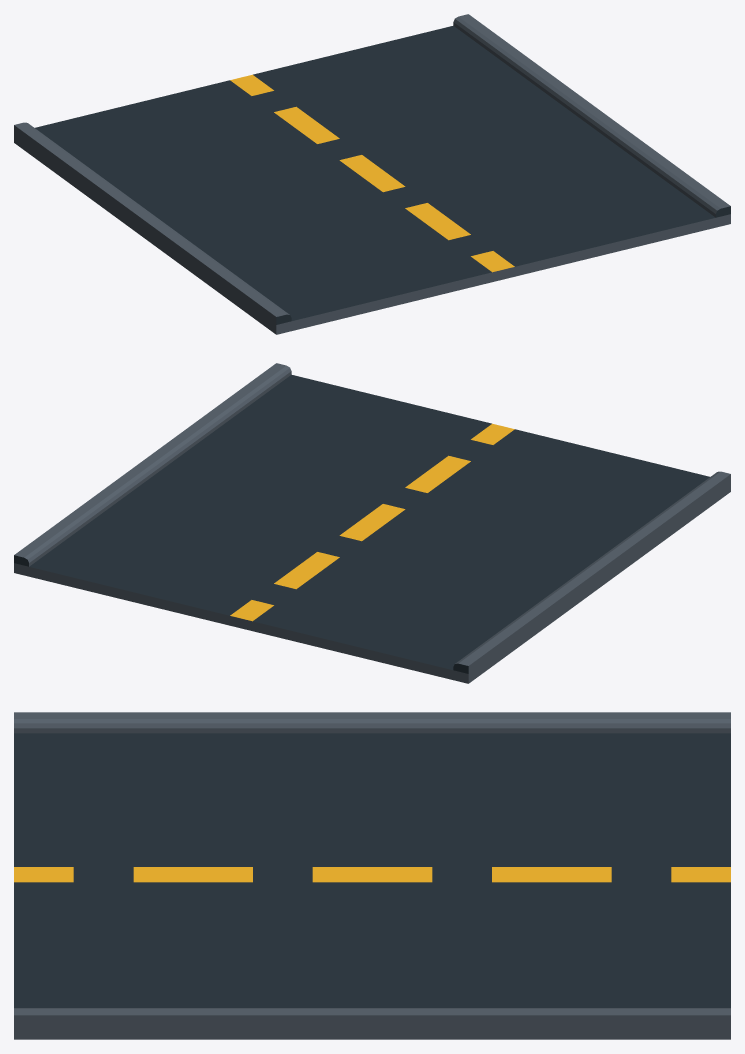
Rendered from Roads, SideWalks.fbx_Road.fbx.
3 views of the same model, one above another, from view 1: azimuth 30°, elevation 25°; view 2: azimuth 150°, elevation 25°; view 3: azimuth 270°, elevation 25° (orthographic). The views are drawn at different scales.
Parts seen in each view (by area): view 1: Road; view 2: Road; view 3: Road.
Boxes of the visible parts, x1,y1,x2,y2 form: Road: [14, 14, 730, 334]; Road: [14, 363, 730, 683]; Road: [14, 712, 730, 1039].
Size of the model in its own units: 2400 by 2400 by 90.
